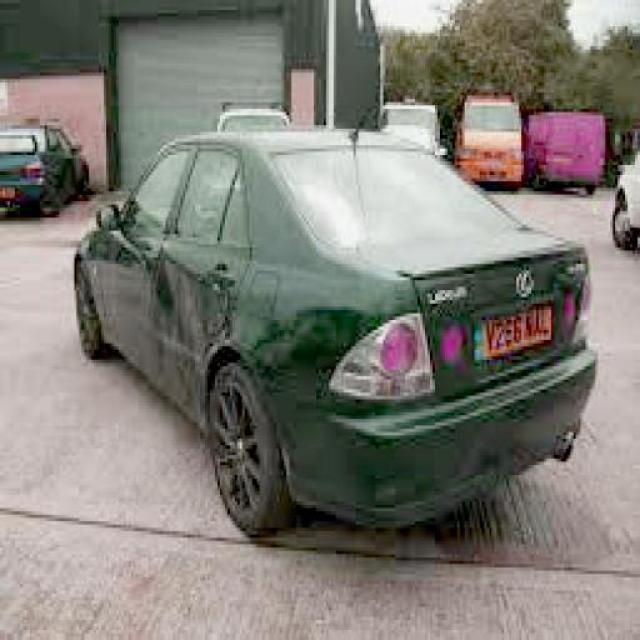Car-Damage: (149, 251, 239, 427)
